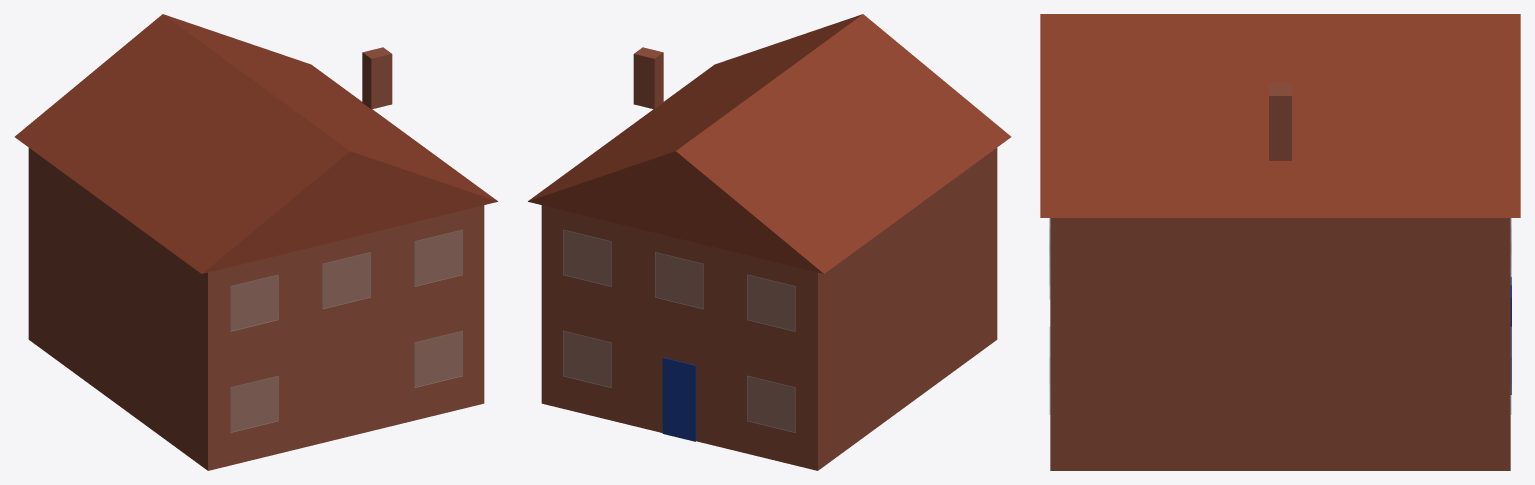
Rendered from context.house_detached.glb.
The picture shows the model from 3 angles, left to right: view 1: azimuth 30°, elevation 25°; view 2: azimuth 150°, elevation 25°; view 3: azimuth 270°, elevation 25°; orthographic projection. The views are drawn at different scales.
Visible parts, largest first — view 1: walls__brick, roof__clay_tile, openings__glass, roof__brick; view 2: walls__brick, roof__clay_tile, openings__glass, openings__plastic_blue, roof__brick; view 3: walls__brick, roof__clay_tile, roof__brick.
Boxes of the visible parts, x1=… form: walls__brick: x1=28, y1=148, x2=484, y2=470; roof__clay_tile: x1=14, y1=14, x2=497, y2=273; openings__glass: x1=230, y1=230, x2=462, y2=432; roof__brick: x1=362, y1=47, x2=392, y2=109; walls__brick: x1=541, y1=148, x2=997, y2=470; roof__clay_tile: x1=528, y1=14, x2=1011, y2=273; openings__glass: x1=563, y1=230, x2=795, y2=432; openings__plastic_blue: x1=662, y1=357, x2=696, y2=441; roof__brick: x1=633, y1=47, x2=663, y2=109; walls__brick: x1=1050, y1=218, x2=1510, y2=470; roof__clay_tile: x1=1040, y1=14, x2=1520, y2=217; roof__brick: x1=1269, y1=83, x2=1291, y2=160.
Bounding box in the file's own units: 8.6 × 8 × 9.4.
